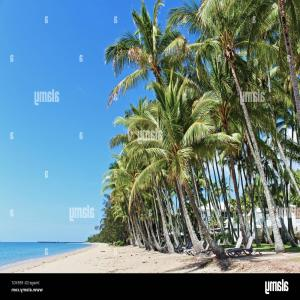palm tree: (166, 0, 291, 253), (109, 67, 243, 256)
